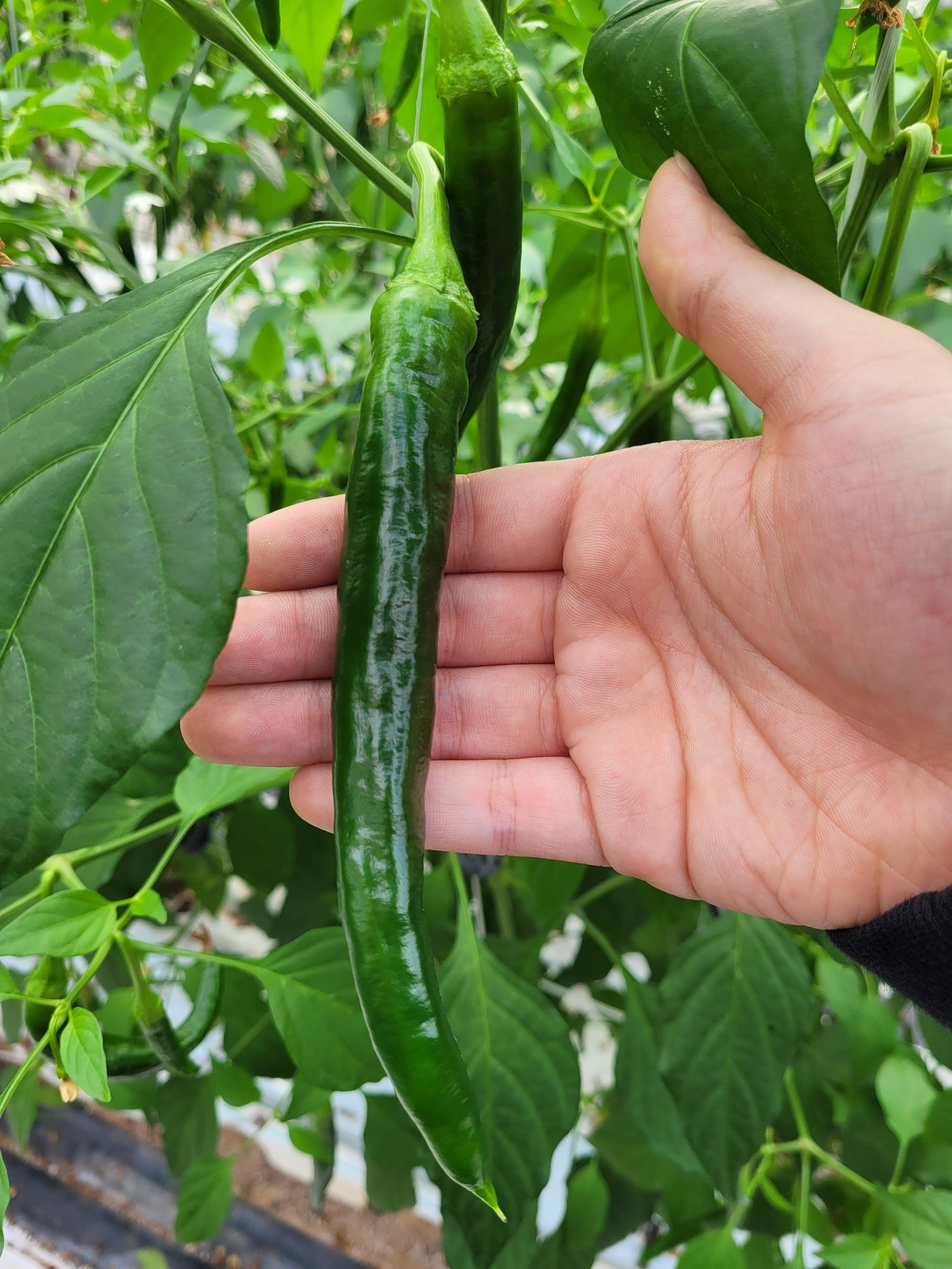Buah Cabai Sehat: (328, 235, 509, 1223)
Daun Cabai Sehat: (0, 221, 274, 876)
